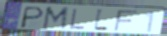1: (145, 11, 156, 33)
F: (112, 10, 140, 32)
L: (92, 8, 110, 33), (68, 8, 87, 30)
M: (41, 6, 71, 31)
P: (18, 5, 46, 29)
